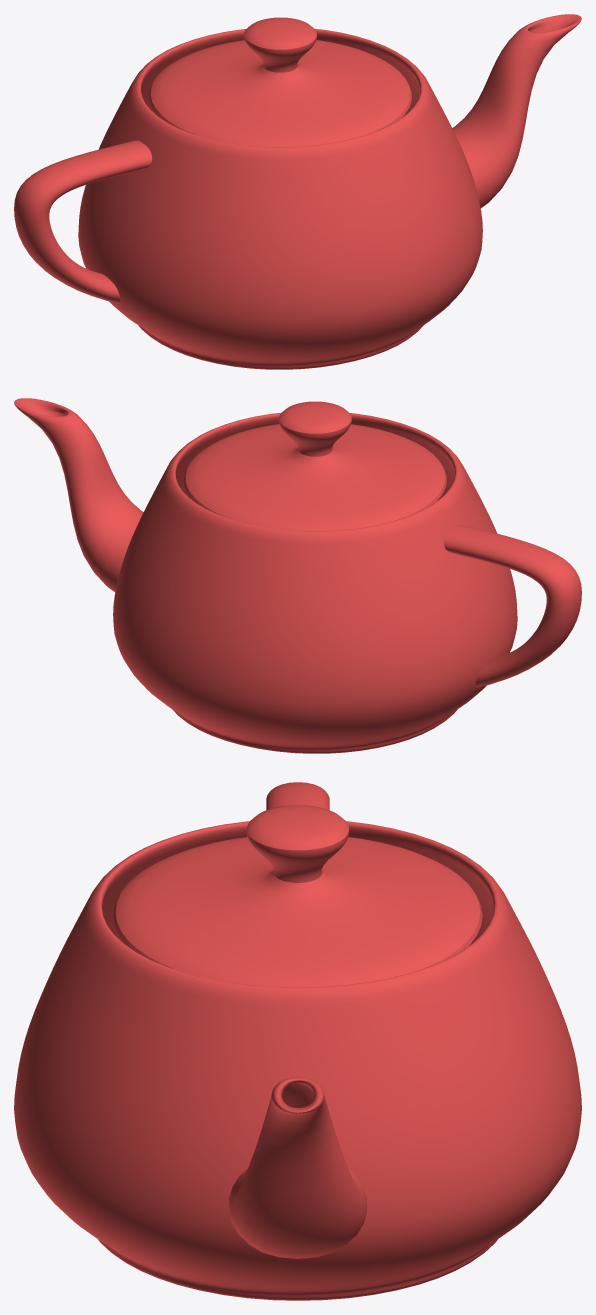
Rendered from teapot2.glb.
The picture shows the model from 3 angles, top to bottom: view 1: azimuth 30°, elevation 25°; view 2: azimuth 150°, elevation 25°; view 3: azimuth 270°, elevation 25°; orthographic projection. The views are drawn at different scales.
Parts seen in each view (by area): view 1: Teapot; view 2: Teapot; view 3: Teapot.
Boxes of the visible parts, box(x1,y1,x2,y2) form: Teapot: box(14, 14, 581, 369); Teapot: box(14, 398, 581, 753); Teapot: box(14, 782, 581, 1300).
Bounding box in the file's own units: 6.43 × 3.15 × 4.
